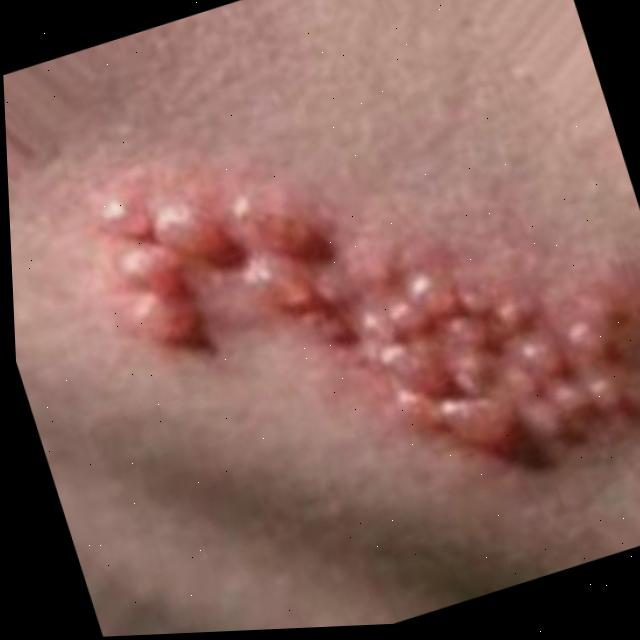Shingles: (86, 34, 640, 567)
